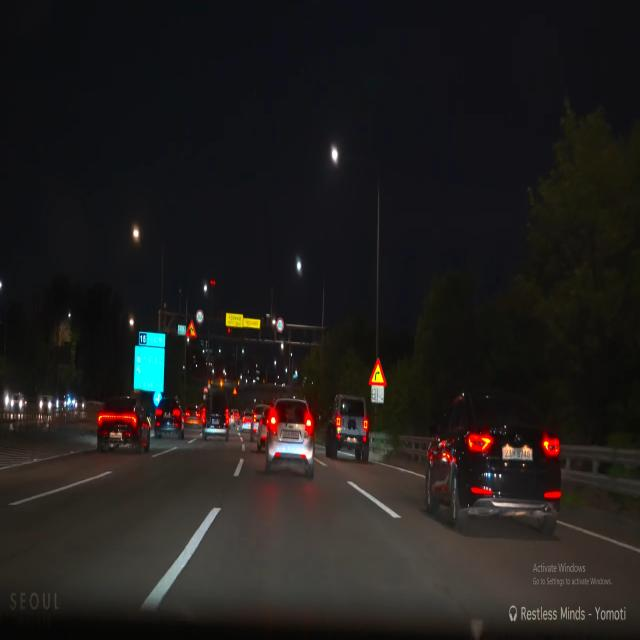headlights: (9, 396, 25, 412), (38, 398, 53, 413)
